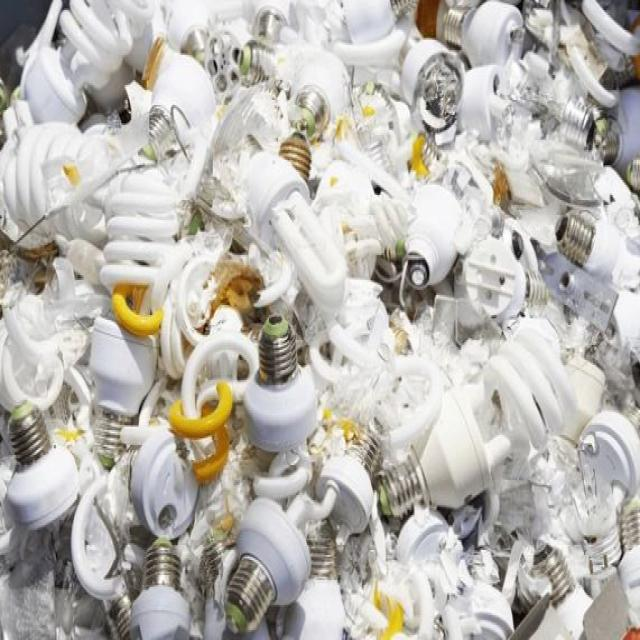electronic: (0, 0, 639, 638), (223, 495, 312, 633)
